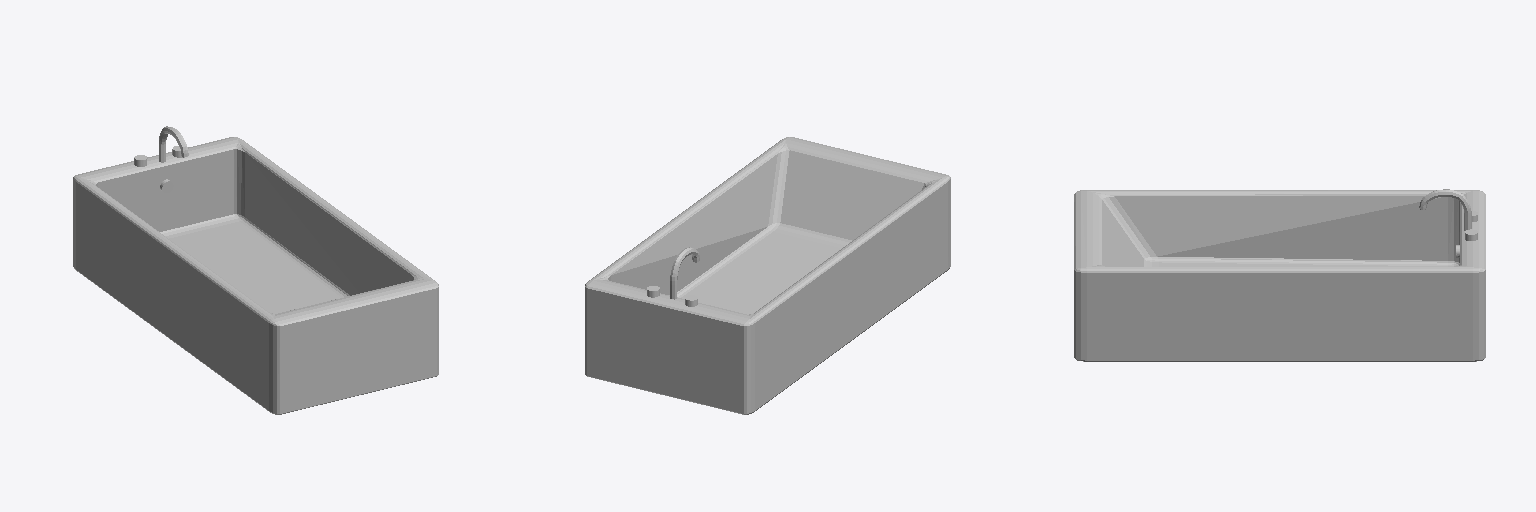
The model's file is tub.obj.
3 renders of one model, left to right at view 1: azimuth 30°, elevation 25°; view 2: azimuth 150°, elevation 25°; view 3: azimuth 270°, elevation 25°, orthographic.
Parts seen in each view (by area): view 1: Cube; view 2: Cube; view 3: Cube, Plane.
Boxes of the visible parts, <box> form: Cube: <box>73,137,438,414</box>; Cube: <box>585,137,950,414</box>; Cube: <box>1074,190,1485,361</box>; Plane: <box>1419,189,1471,230</box>.
Bounding box in the file's own units: 2 × 1.52 × 4.26.